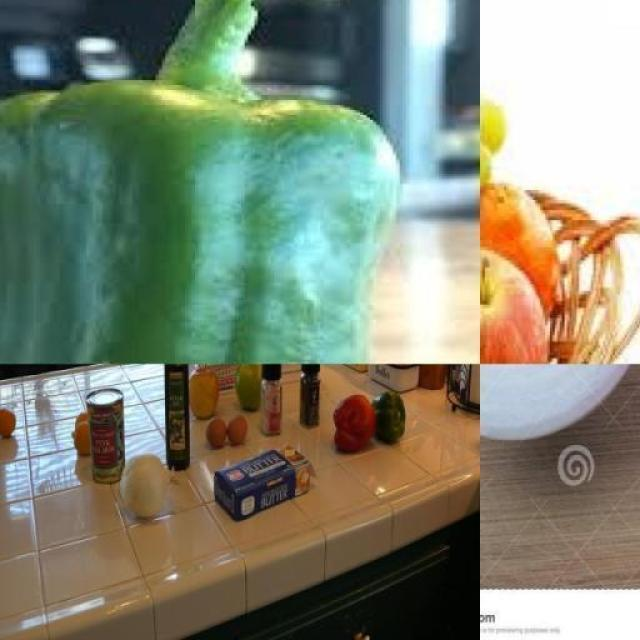Orange: (480, 183, 574, 317)
